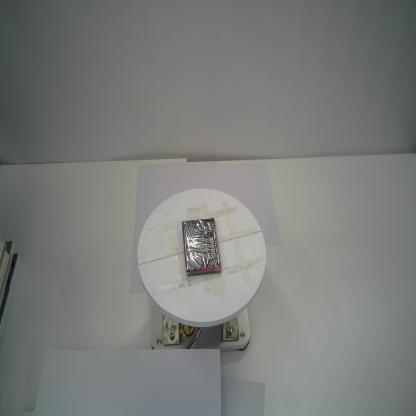Gum: (181, 216, 223, 278)
